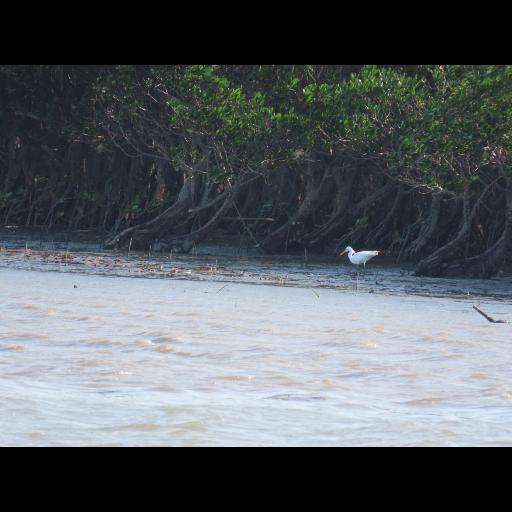chinese_egret: (340, 244, 380, 270)
